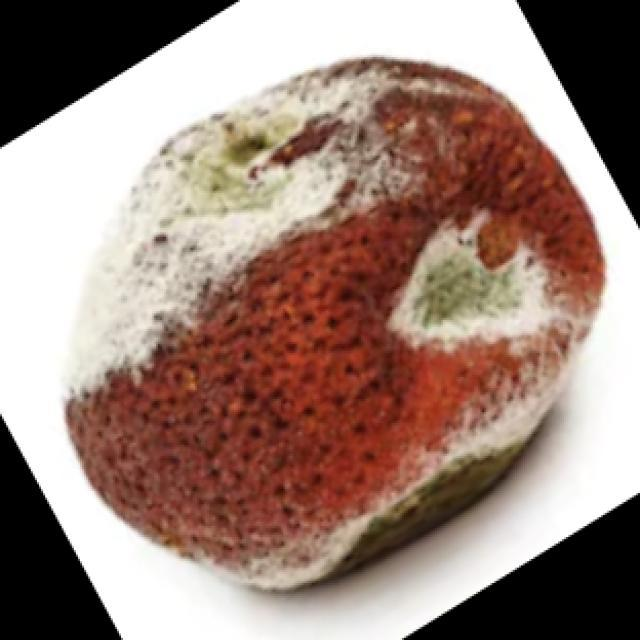sangat-busuk: (65, 57, 605, 589)
